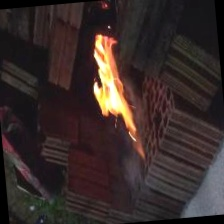fire: (77, 17, 154, 171)
